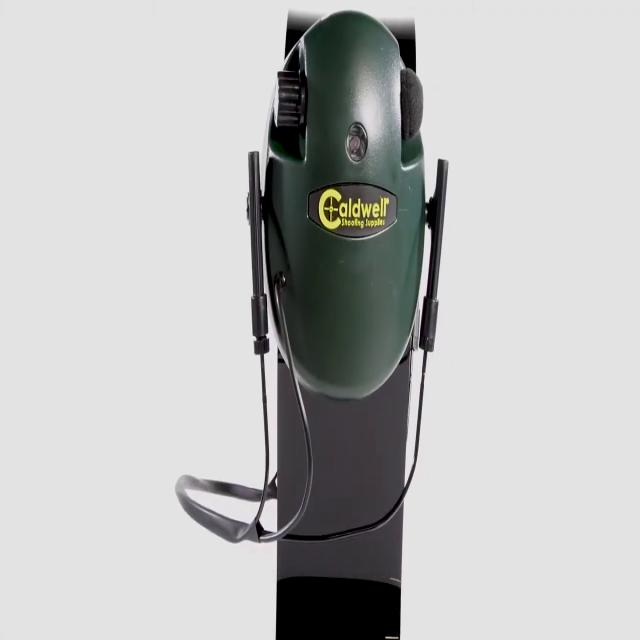earmuff: (259, 5, 425, 407)
